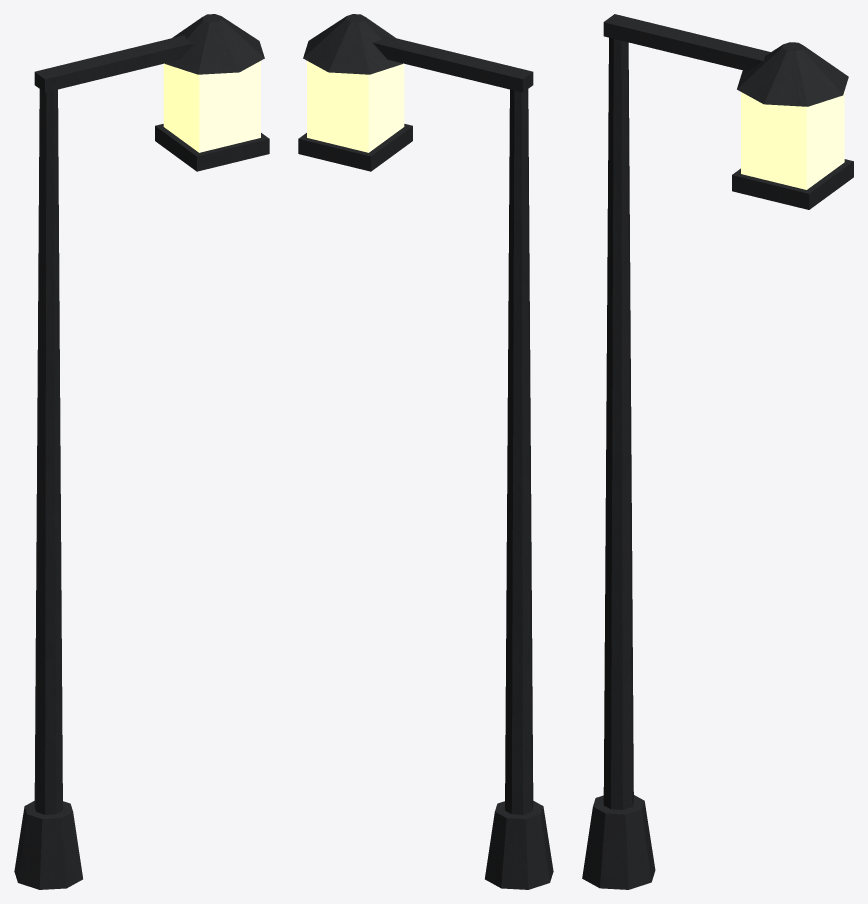
The model's file is street_lamp_01.glb.
3 views of the same model, side by side, from view 1: azimuth 30°, elevation 25°; view 2: azimuth 150°, elevation 25°; view 3: azimuth 330°, elevation 25° (orthographic). The views are drawn at different scales.
Parts seen in each view (by area): view 1: street_lamp_01; view 2: street_lamp_01; view 3: street_lamp_01.
Part boxes in pixels (x1,y1,x2,y2): street_lamp_01: (14, 14, 269, 889); street_lamp_01: (298, 14, 553, 889); street_lamp_01: (582, 14, 853, 889).
Bounding box in the file's own units: 1.33 × 4.3 × 0.52.
2 materials, 1 textured.
